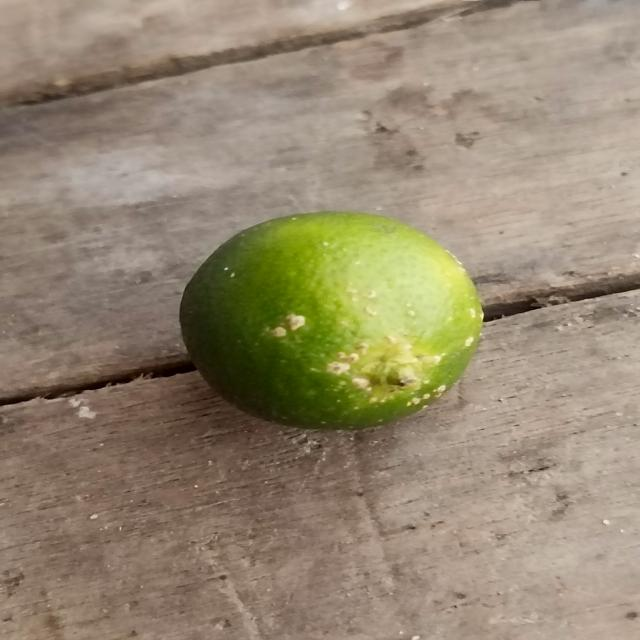scab: (170, 205, 483, 432)
